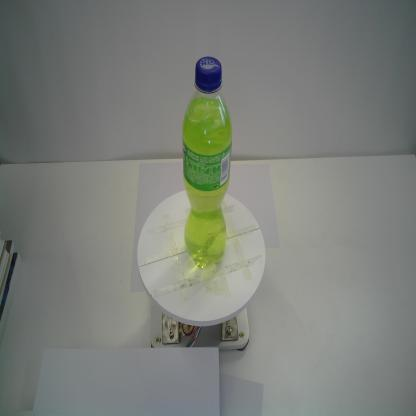Drink: (178, 54, 234, 272)
